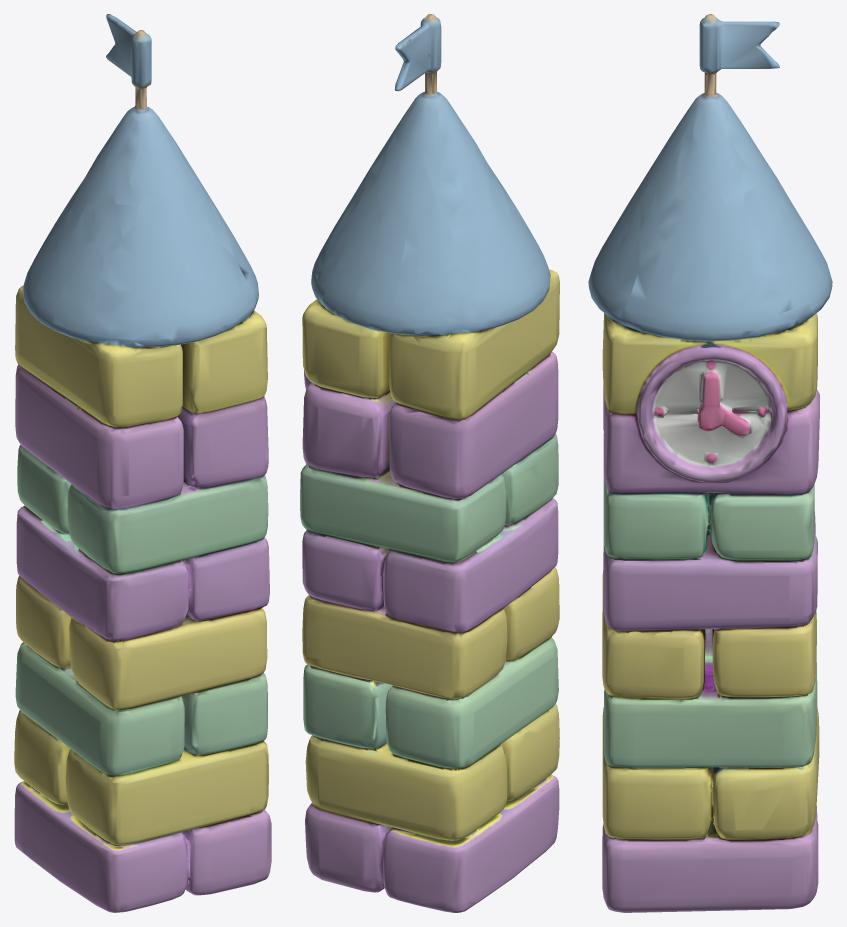
3 views of the same model, side by side, from view 1: azimuth 30°, elevation 25°; view 2: azimuth 150°, elevation 25°; view 3: azimuth 270°, elevation 25° (orthographic). The views are drawn at different scales.
Visible parts, largest first — view 1: repaired; view 2: repaired; view 3: repaired.
Boxes of the visible parts, x1,y1,x2,y2 form: repaired: [14, 14, 271, 912]; repaired: [300, 14, 559, 912]; repaired: [588, 14, 832, 912].
Size of the model in its own units: 0.2571 by 0.9994 by 0.2571.
Materials: 1 (1 with a texture image).
